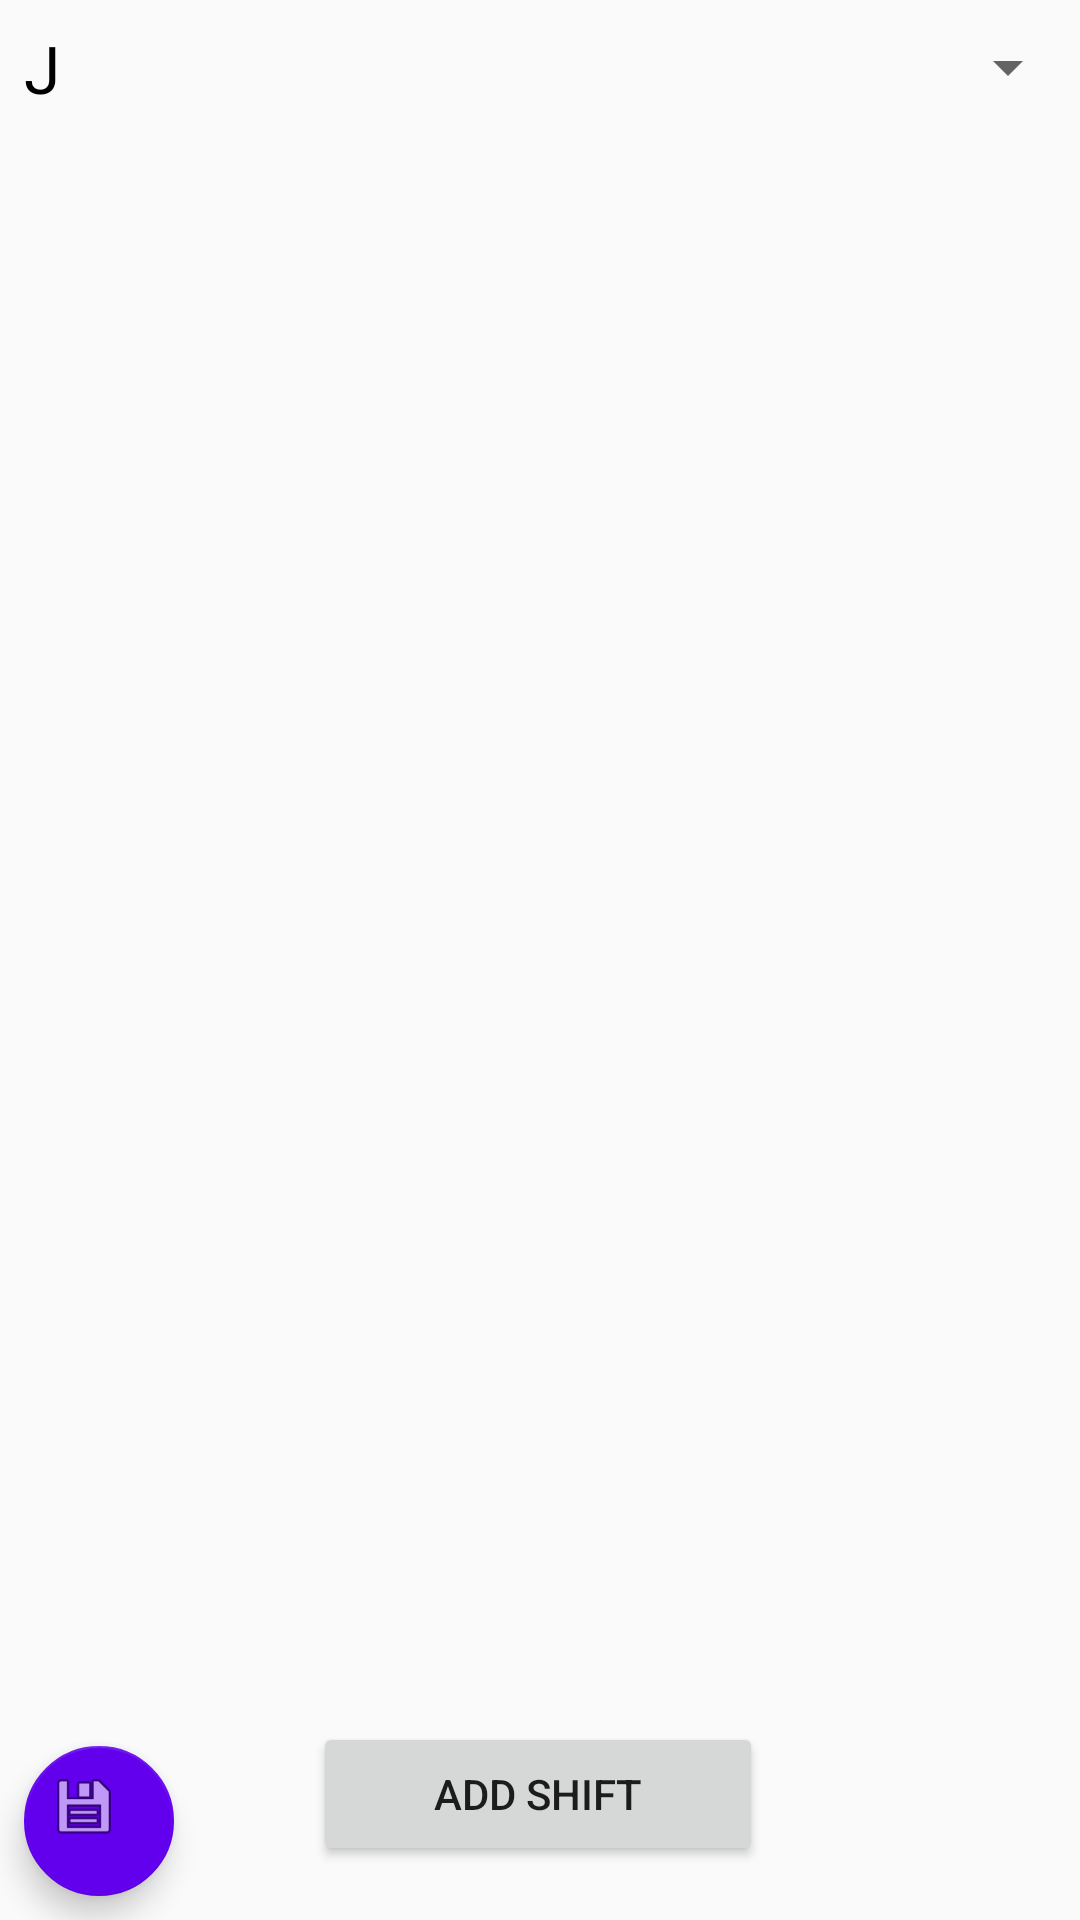

Icons on this 1080px x 1920px Android screen, each with the point to tap as point (x, y):
save: point (99, 1821)
